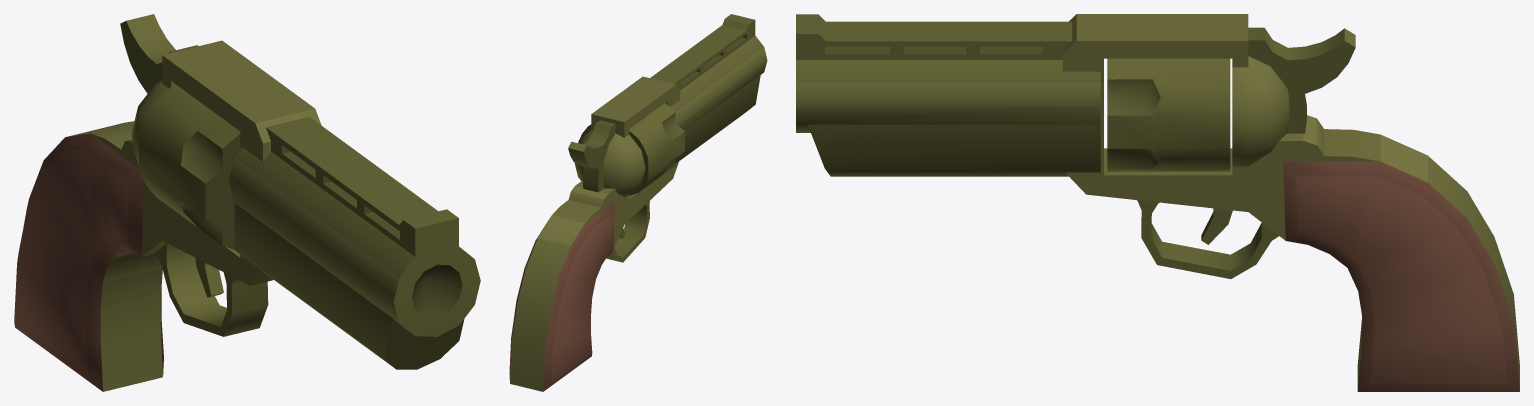
Rendered from Weapon_PISTOL_01_G02.fbx.
3 renders of one model, left to right at view 1: azimuth 30°, elevation 25°; view 2: azimuth 150°, elevation 25°; view 3: azimuth 270°, elevation 25°, orthographic. The views are drawn at different scales.
Visible parts, largest first — view 1: Weapon_PISTOL_01_G02; view 2: Weapon_PISTOL_01_G02; view 3: Weapon_PISTOL_01_G02.
Boxes of the visible parts, x1=… form: Weapon_PISTOL_01_G02: x1=14, y1=14, x2=480, y2=391; Weapon_PISTOL_01_G02: x1=509, y1=14, x2=767, y2=391; Weapon_PISTOL_01_G02: x1=796, y1=14, x2=1519, y2=391.
Size of the model in its own units: 1.18 by 3.43 by 6.35.
